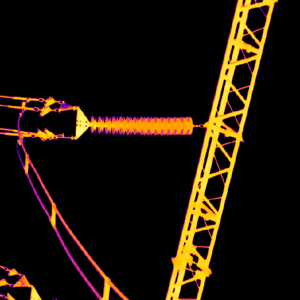insulator: (90, 114, 194, 135)
